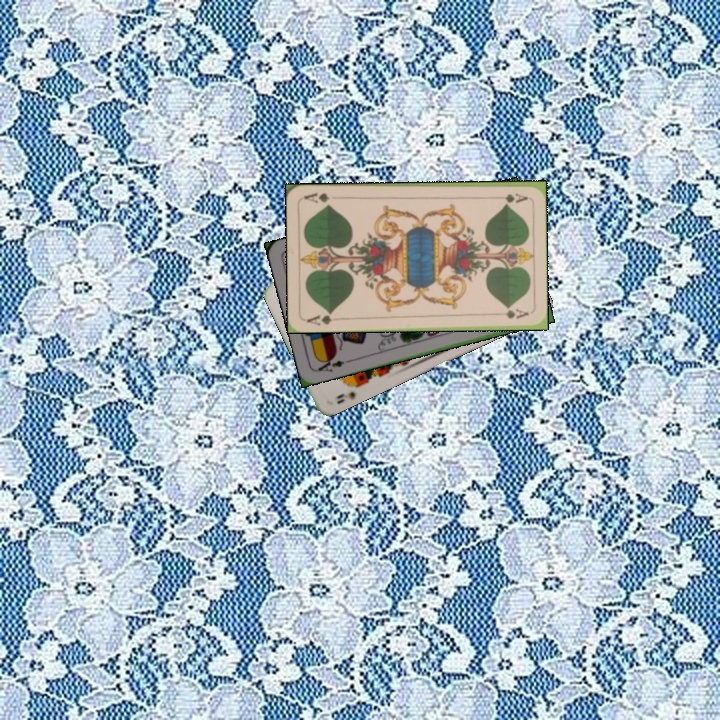EA: (313, 353, 346, 375)
GA: (302, 308, 343, 328), (489, 189, 530, 204)
S9: (333, 378, 365, 407)
